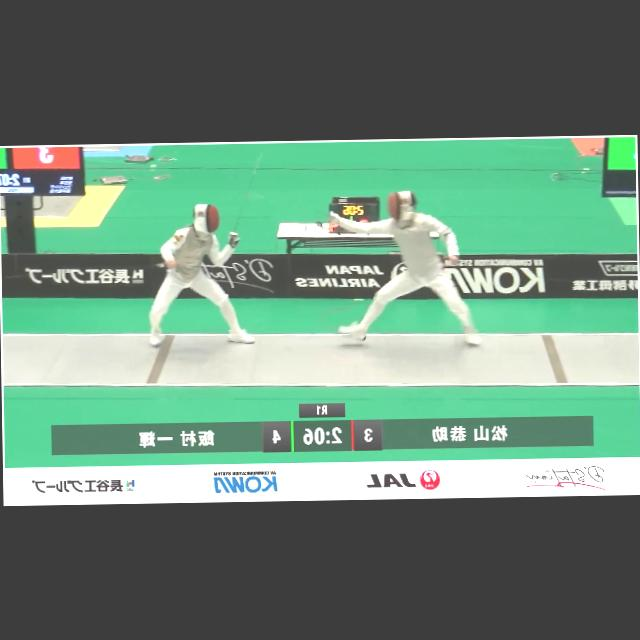blade: (222, 150, 266, 239), (245, 187, 339, 224)
